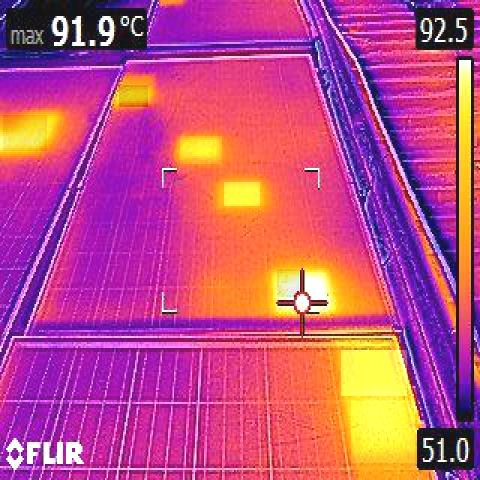fault: (351, 401, 415, 463), (341, 350, 407, 396), (3, 115, 47, 151), (180, 136, 222, 164), (225, 182, 260, 206), (119, 86, 148, 108), (277, 270, 299, 298), (306, 273, 326, 293)
